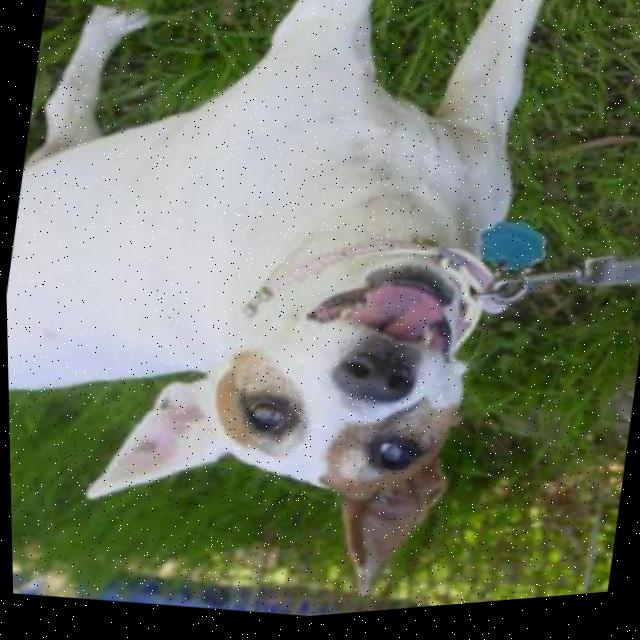dogs: (0, 0, 602, 640)
